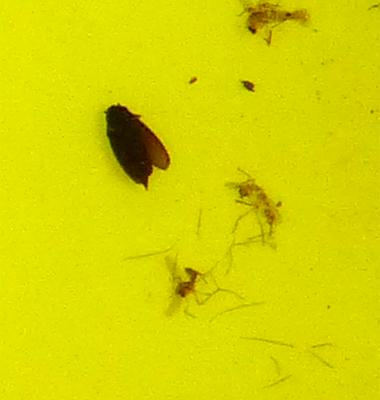Coleoptera: (100, 100, 172, 189)
Nematocera: (229, 178, 280, 239), (244, 6, 312, 35), (168, 262, 206, 300)
